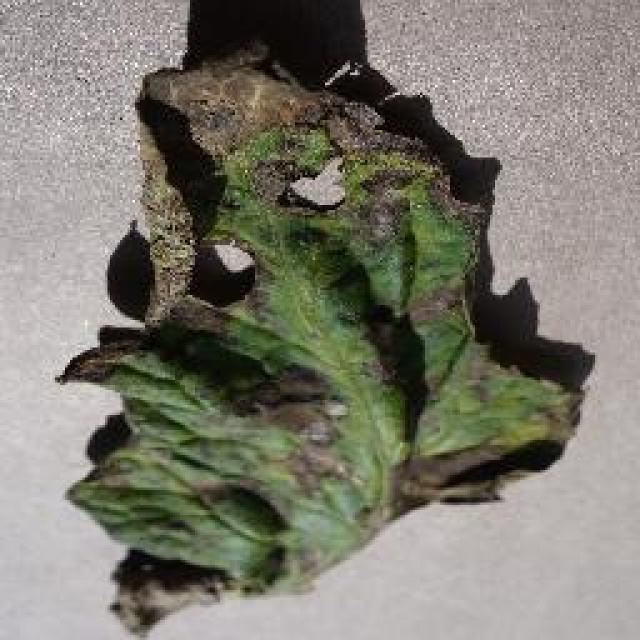Tomato___Early_blight: (50, 38, 593, 638)
